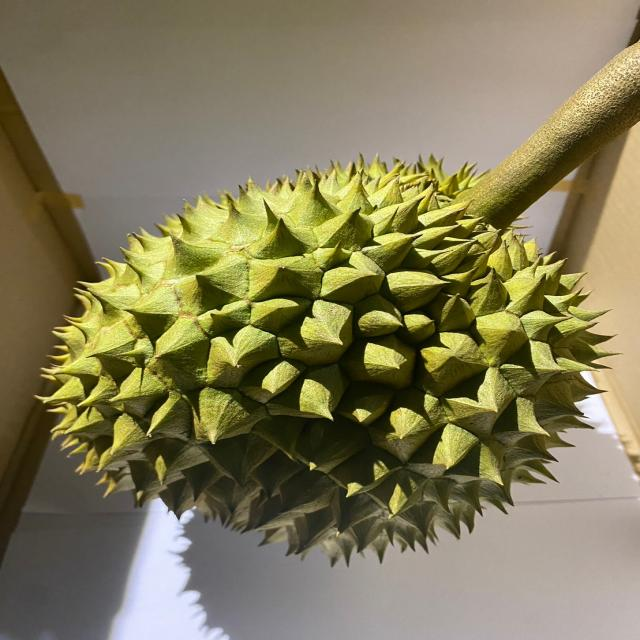immature: (38, 154, 622, 568)
